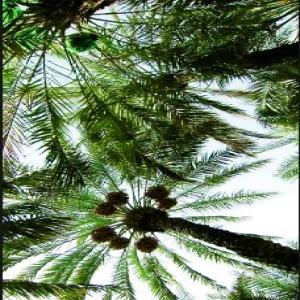palm tree: (1, 0, 299, 299)
